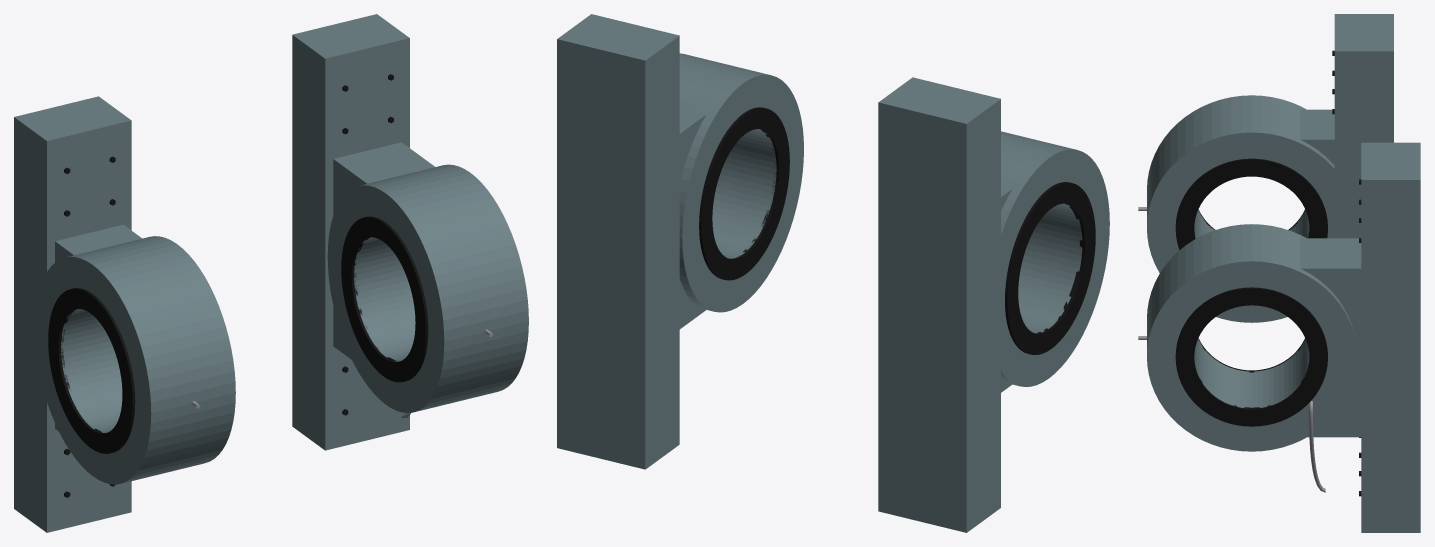
The model's file is main_bearing.glb.
The picture shows the model from 3 angles, left to right: view 1: azimuth 30°, elevation 25°; view 2: azimuth 150°, elevation 25°; view 3: azimuth 270°, elevation 25°; orthographic projection. The views are drawn at different scales.
Parts seen in each view (by area): view 1: main_bearing; view 2: main_bearing; view 3: main_bearing.
Part boxes in pixels (x1,y1,x2,y2): main_bearing: [14, 14, 528, 532]; main_bearing: [557, 14, 1109, 532]; main_bearing: [1138, 14, 1420, 532].
Bounding box in the file's own units: 2.37 × 2.3 × 1.67.
